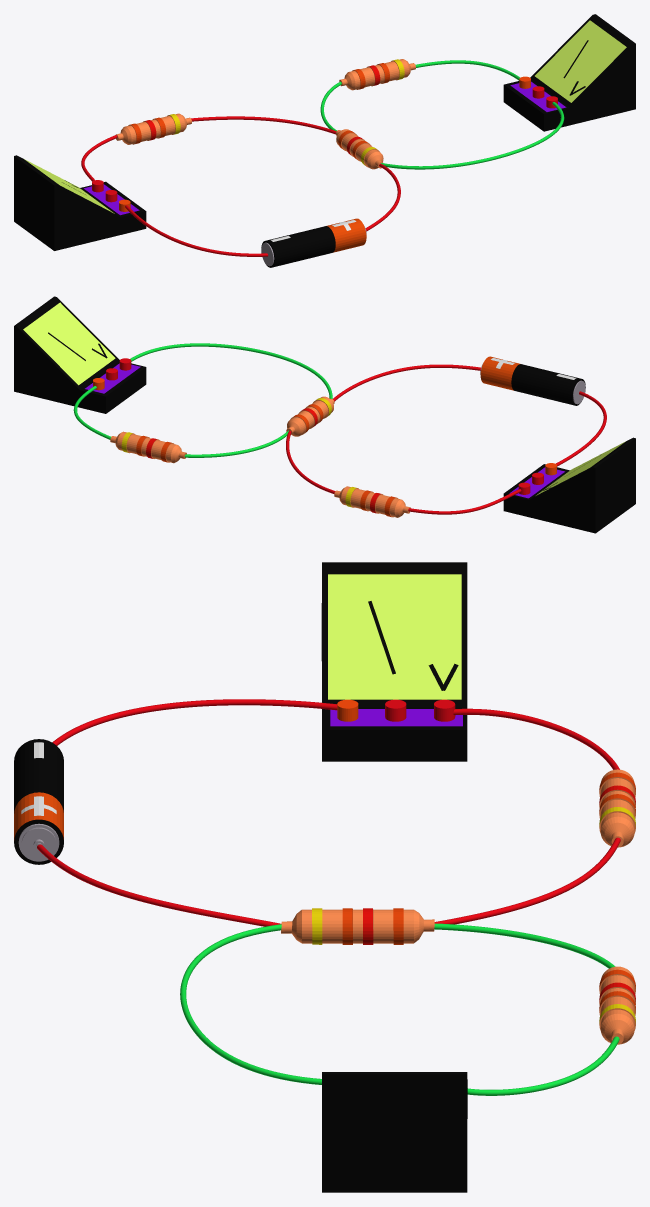
The picture shows the model from 3 angles, top to bottom: view 1: azimuth 30°, elevation 25°; view 2: azimuth 150°, elevation 25°; view 3: azimuth 270°, elevation 25°; orthographic projection. The views are drawn at different scales.
Parts seen in each view (by area): view 1: Cube.002, Cube.001, Cylinder.008, Cylinder.001, Cylinder.007, Cylinder.002, NurbsPath.002, NurbsPath.009, NurbsPath.011, NurbsPath.008; view 2: Cube.002, Cube.001, Cylinder.008, Cylinder.007, Cylinder.001, Cylinder.002, NurbsPath.002, NurbsPath.007, NurbsPath.010, NurbsPath.012, NurbsPath.009; view 3: Cube.001, Cube.002, Cylinder.008, Cylinder.002, Cylinder.001, Cylinder.007, NurbsPath.002, NurbsPath.009, NurbsPath.007, NurbsPath.011, NurbsPath.012, NurbsPath.010 (+1 smaller).
Part boxes in pixels (<box>): Cube.002: <box>503,14,635,131</box>; Cube.001: <box>14,155,146,250</box>; Cylinder.008: <box>261,218,366,267</box>; Cylinder.001: <box>339,59,415,90</box>; Cylinder.007: <box>116,113,191,144</box>; Cylinder.002: <box>335,129,383,169</box>; NurbsPath.002: <box>381,102,564,169</box>; NurbsPath.009: <box>125,205,268,256</box>; NurbsPath.011: <box>191,116,336,134</box>; NurbsPath.008: <box>415,60,519,80</box>; Cube.002: <box>14,296,146,413</box>; Cube.001: <box>503,437,635,533</box>; Cylinder.008: <box>480,356,585,405</box>; Cylinder.007: <box>334,486,410,517</box>; Cylinder.001: <box>110,431,186,463</box>; Cylinder.002: <box>286,396,334,436</box>; NurbsPath.002: <box>130,343,332,398</box>; NurbsPath.007: <box>333,364,480,401</box>; NurbsPath.010: <box>408,489,521,514</box>; NurbsPath.012: <box>184,430,288,457</box>; NurbsPath.009: <box>556,391,606,466</box>; Cube.001: <box>321,562,467,761</box>; Cube.002: <box>322,1072,467,1192</box>; Cylinder.008: <box>14,739,63,864</box>; Cylinder.002: <box>281,908,434,944</box>; Cylinder.001: <box>599,966,635,1044</box>; Cylinder.007: <box>599,769,635,847</box>; NurbsPath.002: <box>180,924,321,1084</box>; NurbsPath.009: <box>52,699,337,745</box>; NurbsPath.007: <box>37,844,281,926</box>; NurbsPath.011: <box>434,837,620,924</box>; NurbsPath.012: <box>434,923,615,968</box>; NurbsPath.010: <box>453,708,619,769</box>.
Size of the model in its own units: 5.93 by 0.6399 by 3.04.
